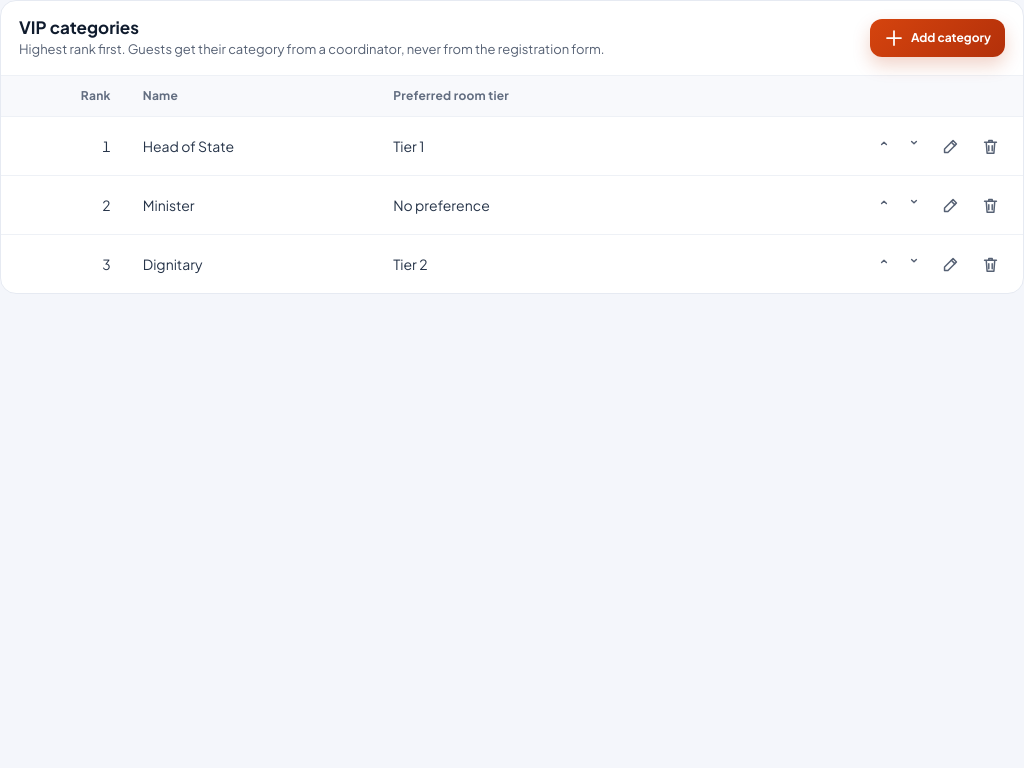
it: CategoriesTab › edits a category without changing its rank
The width and height of the screenshot is (1024, 768).
Expected: the text "Dignitary" is shown, [127,234,377,293]
Click the button named "Edit Dignitary" at (950,264), box [933,247,967,281]
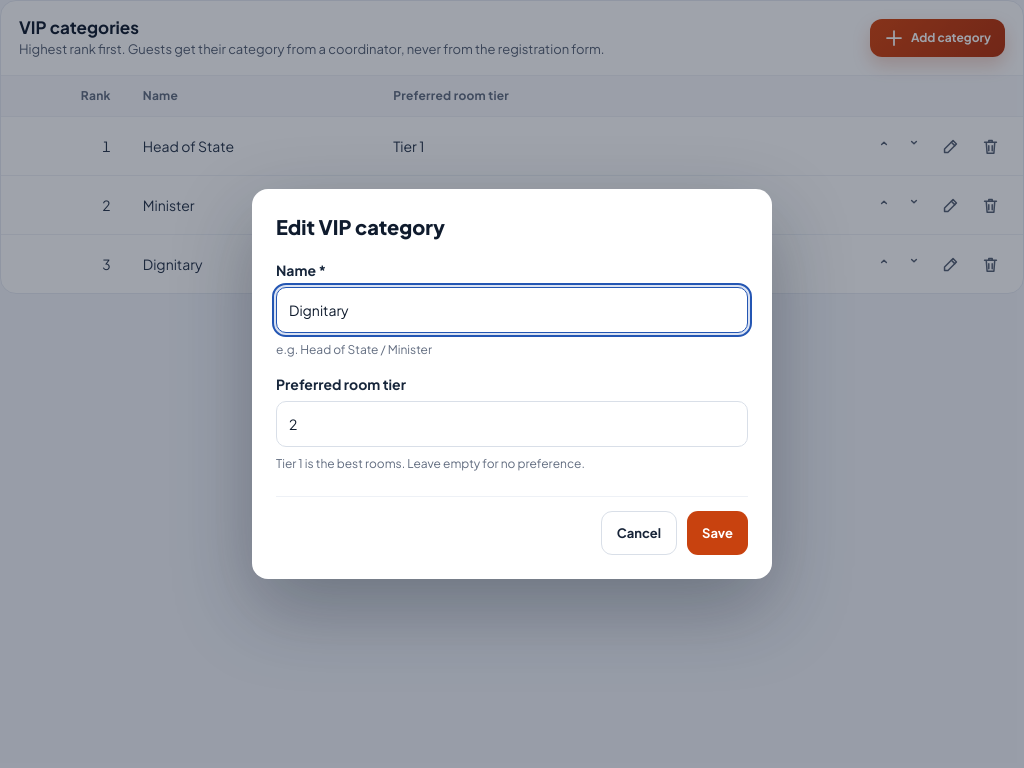
Result: the number field labelled "Preferred room tier" holds "2"
Clear the number field labelled "Preferred room tier" at (512,424), box [276,401,748,447]
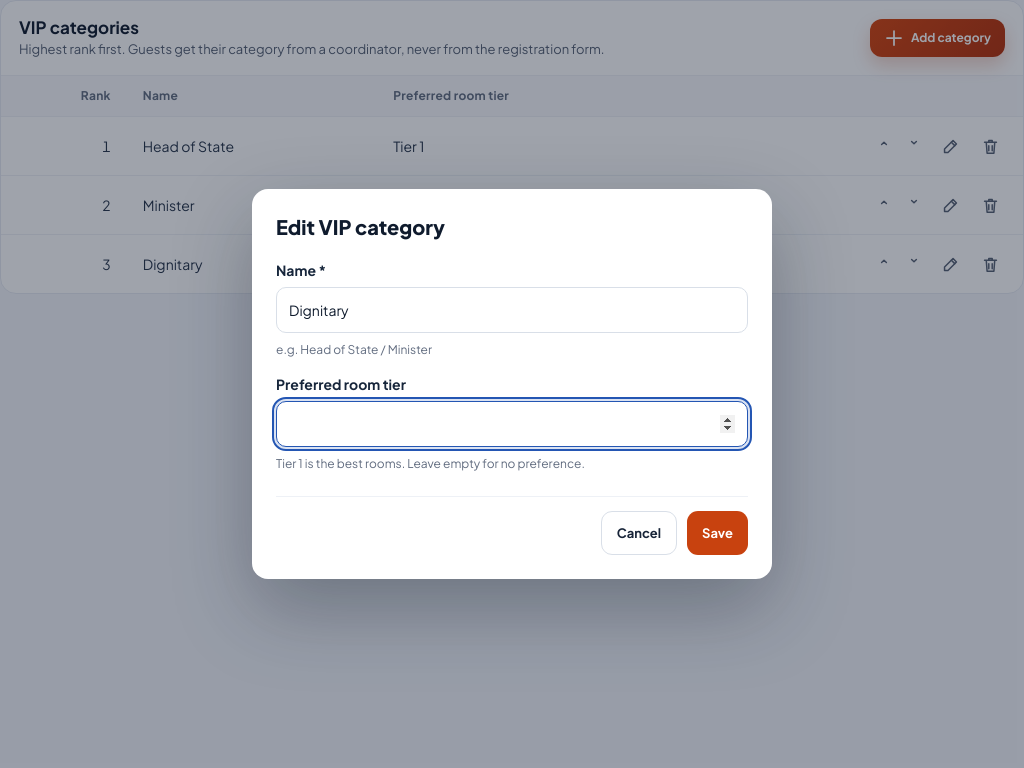
Click the button "Save" at (718,533), box [687,511,748,555]
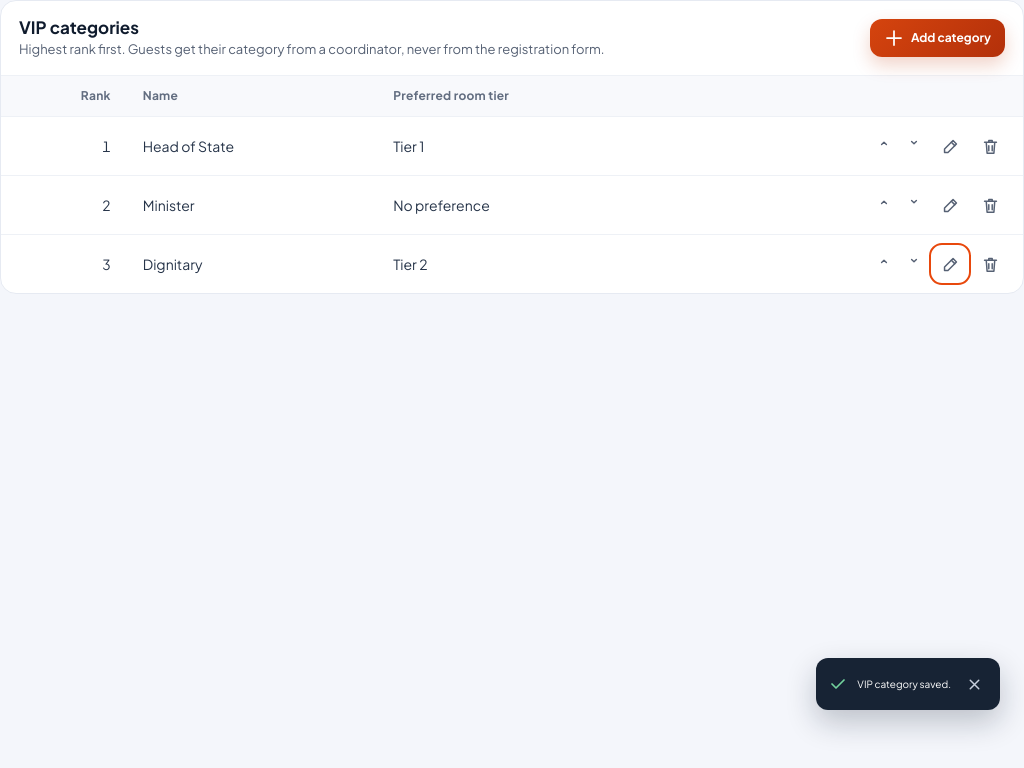
Result: the text "VIP category saved." is shown at [857,674,951,694]
